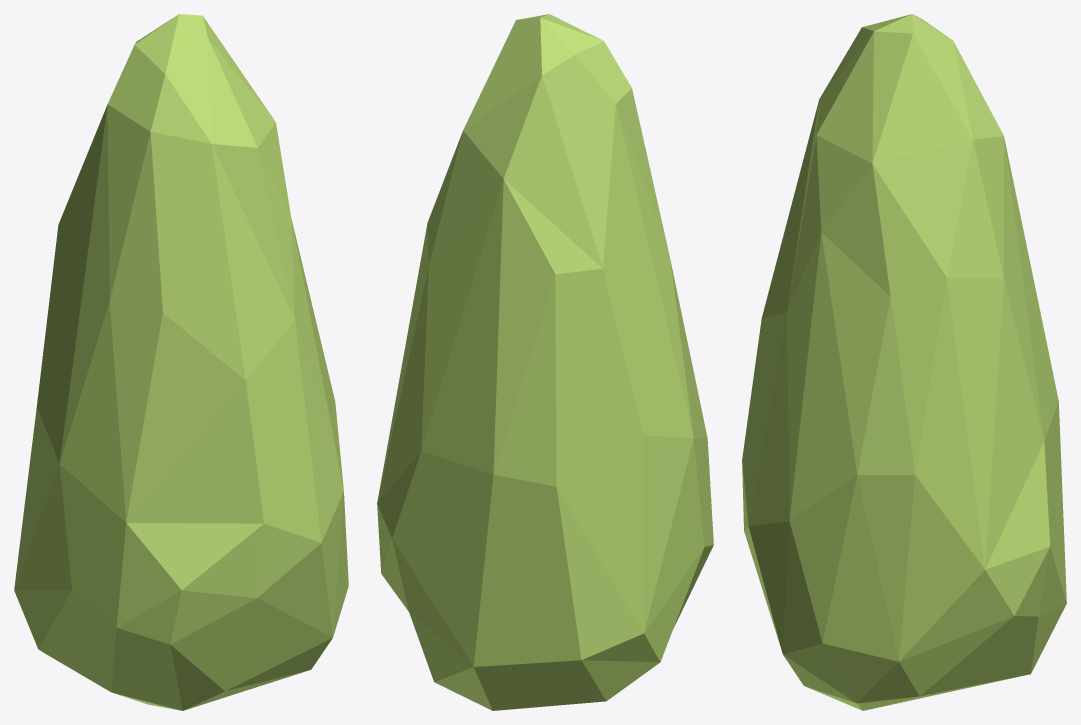
Rendered from Bush_a_m_04.fbx.
The picture shows the model from 3 angles, left to right: view 1: azimuth 30°, elevation 25°; view 2: azimuth 150°, elevation 25°; view 3: azimuth 270°, elevation 25°; orthographic projection.
Parts seen in each view (by area): view 1: Bush_a_m_04; view 2: Bush_a_m_04; view 3: Bush_a_m_04.
Part boxes in pixels (box(x1,y1,x2,y2)): Bush_a_m_04: box(14, 14, 348, 710); Bush_a_m_04: box(377, 14, 713, 710); Bush_a_m_04: box(742, 14, 1066, 710).
Bounding box in the file's own units: 114 × 270 × 118.
